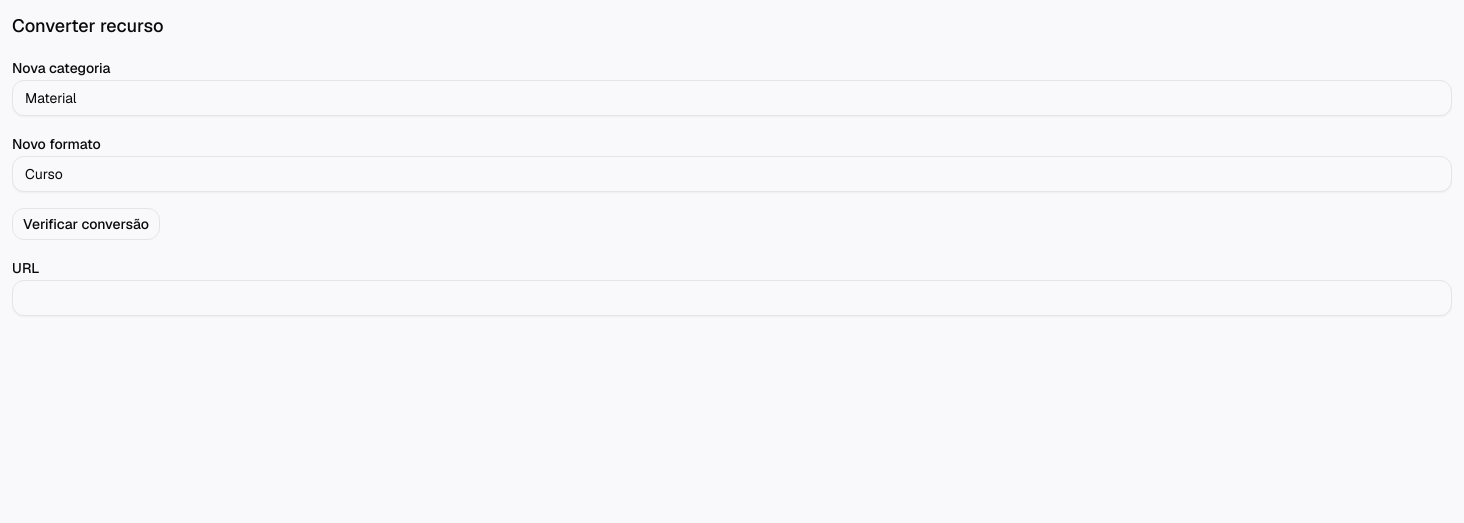
Scenario: ResourceConversion › reports a conversion failure and preserves the preview
Select "Prática" in the dropdown labelled "Nova categoria": (732, 98) [12, 80, 1452, 116]
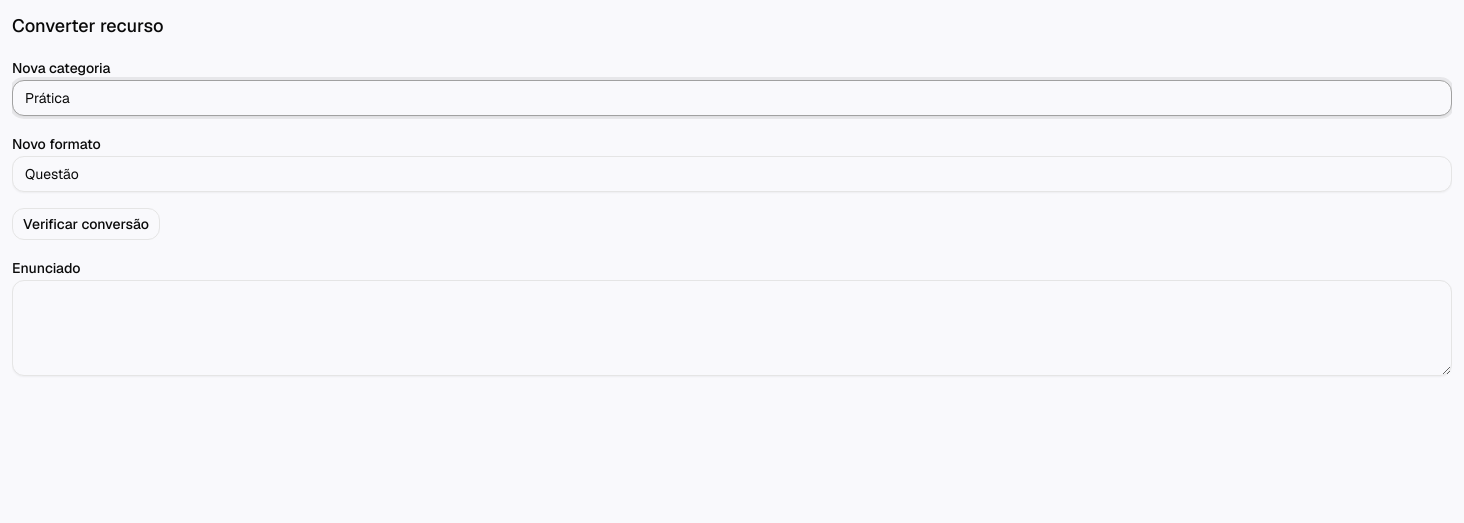
Select "Questão" in the dropdown labelled "Novo formato": (732, 174) [12, 156, 1452, 192]
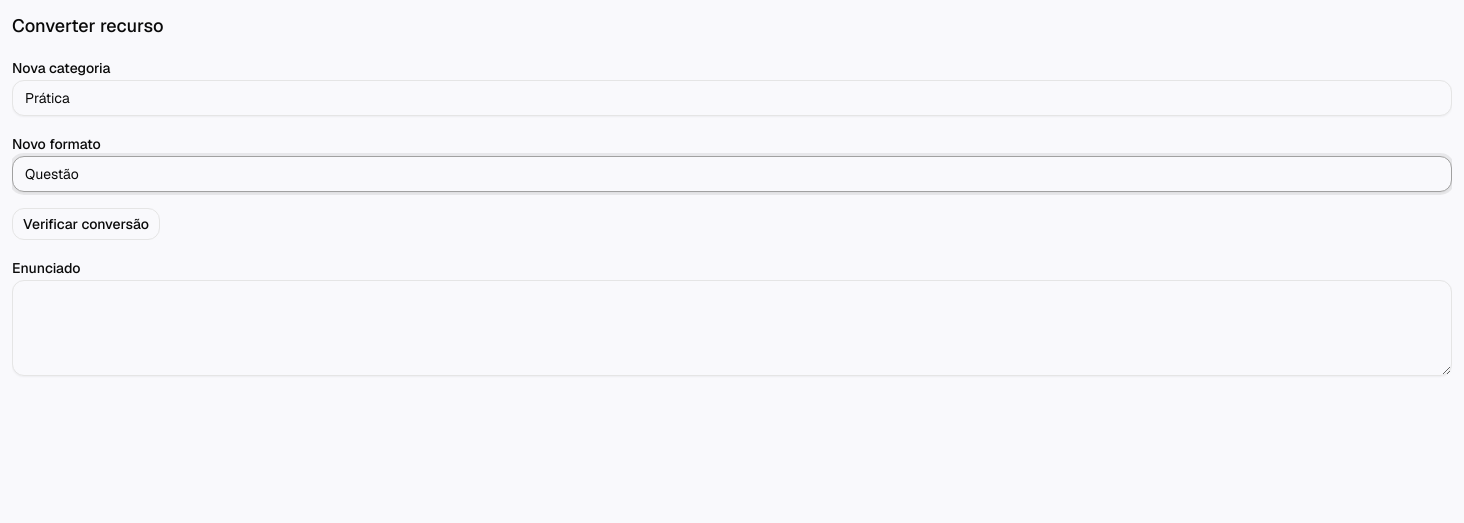
In the text box named "Enunciado da conversão": (732, 328) [12, 280, 1452, 376], type "Explique"
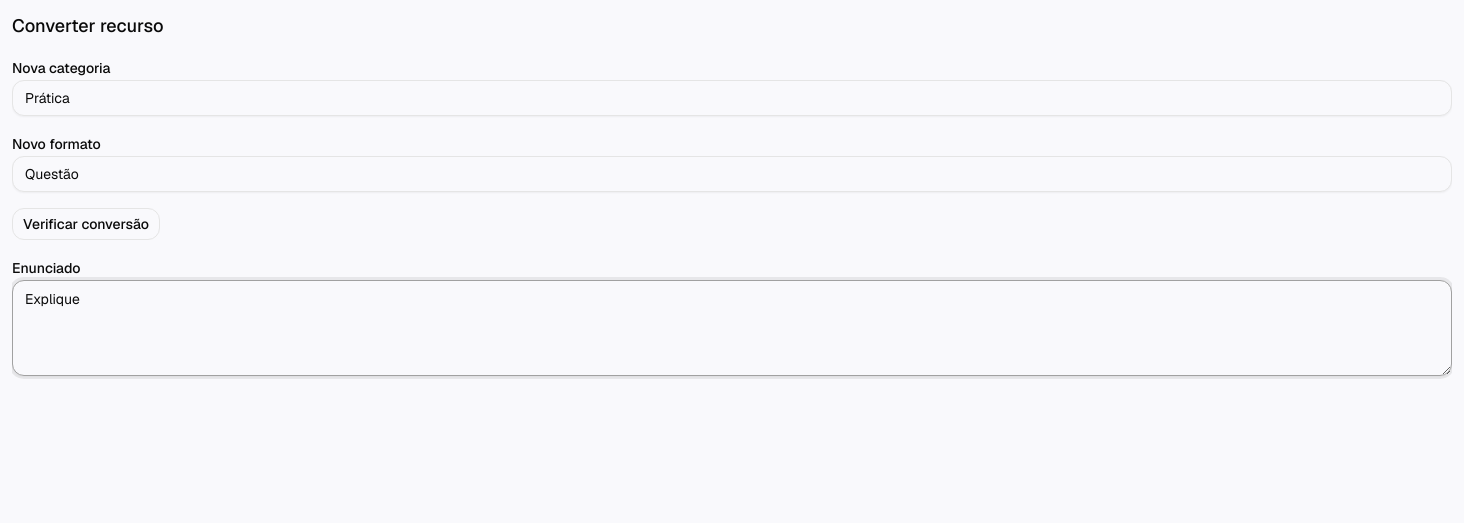
Click the button "Verificar conversão": (86, 224) [12, 208, 160, 240]
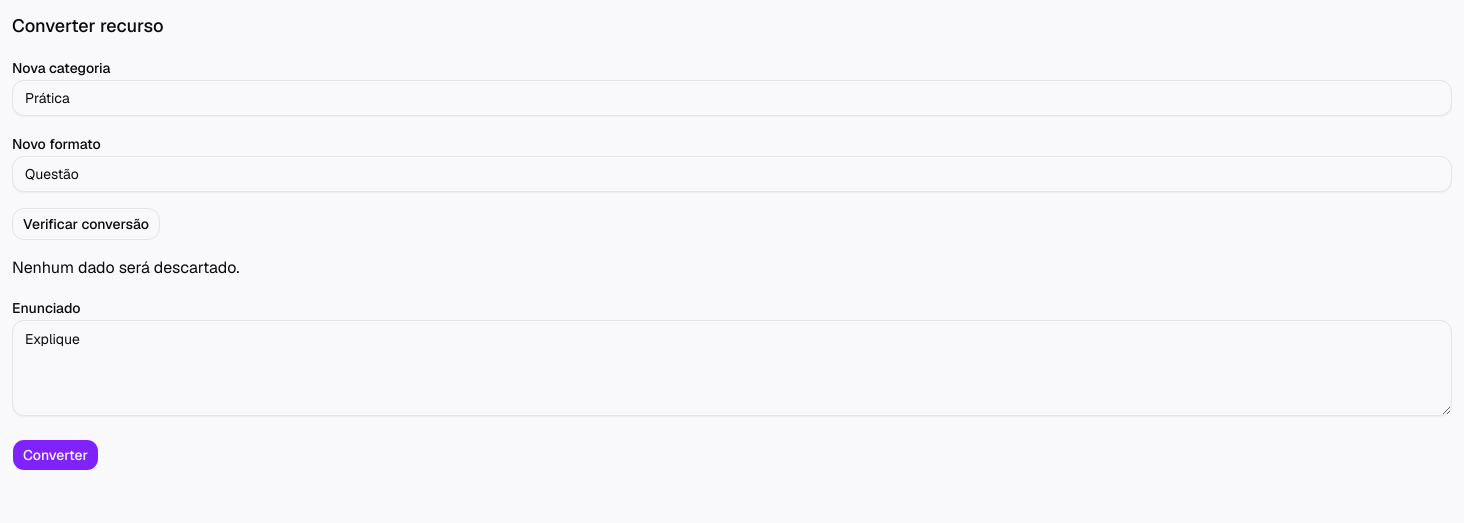
Click the button "Converter": (56, 455) [12, 439, 99, 471]
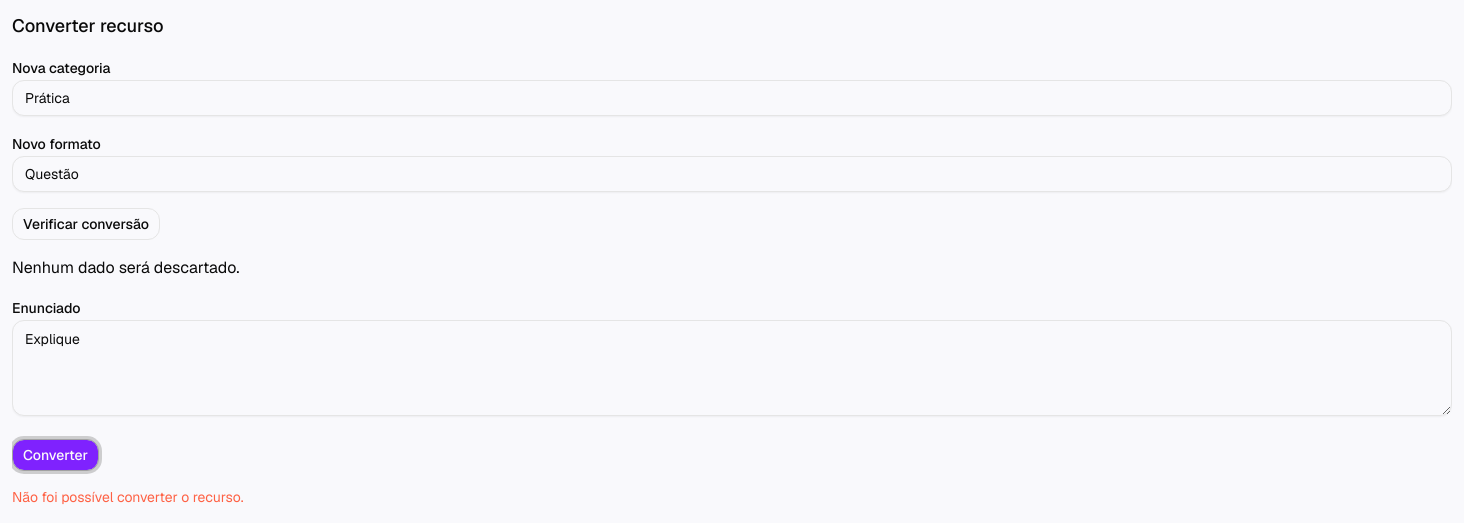
Expected: the button "Converter" is shown, [12, 439, 99, 471]
Expected: the message reads "Não foi possível converter o recurso.", [12, 488, 244, 506]
